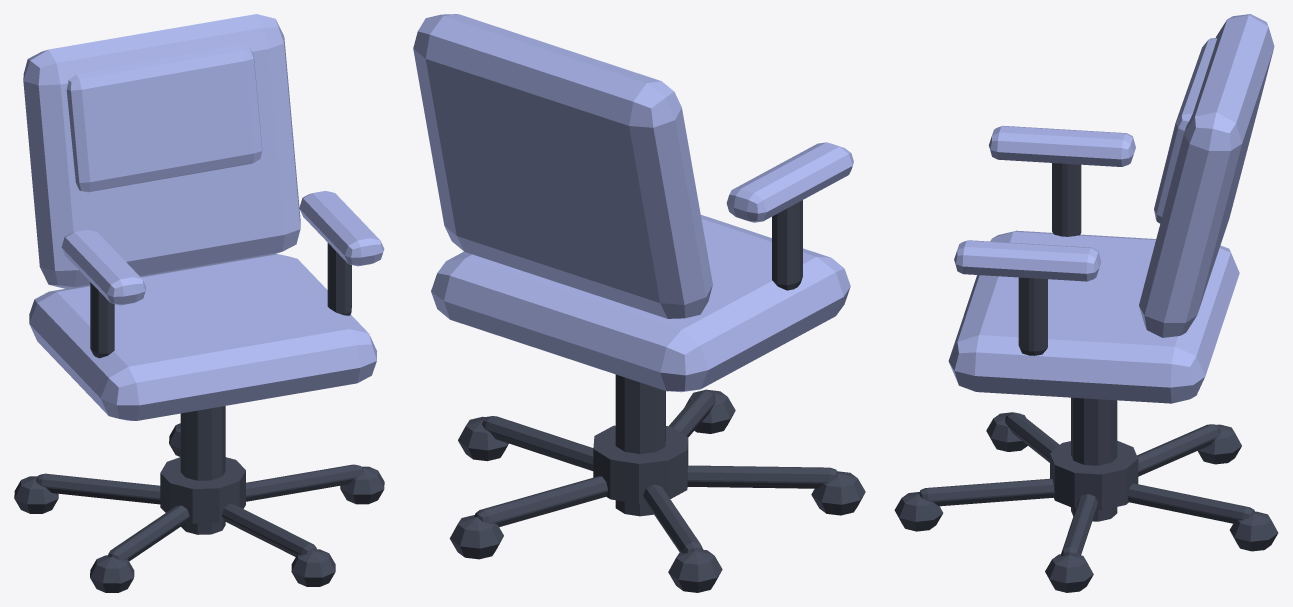
The model's file is cadeira.fbx.
3 views of the same model, side by side, from view 1: azimuth 30°, elevation 25°; view 2: azimuth 150°, elevation 25°; view 3: azimuth 270°, elevation 25° (orthographic). The views are drawn at different scales.
Parts seen in each view (by area): view 1: Chair_Front_Back, Chair_Front_Seat, Chair_Front_Back_Panel, Chair_Front, Chair_Front_Hub, Chair_Front_Post, Chair_Front_ArmRest_1, Chair_Front_ArmRest_-1, Chair_Front_ArmPost_-1; view 2: Chair_Front_Back, Chair_Front_Seat, Chair_Front, Chair_Front_ArmRest_-1, Chair_Front_Hub, Chair_Front_Post, Chair_Front_ArmPost_-1; view 3: Chair_Front_Seat, Chair_Front_Back, Chair_Front, Chair_Front_ArmRest_1, Chair_Front_ArmRest_-1, Chair_Front_Hub, Chair_Front_Post, Chair_Front_Back_Panel, Chair_Front_ArmPost_-1.
Boxes of the visible parts, x1,y1,x2,y2 form: Chair_Front_Back: [23, 14, 300, 289]; Chair_Front_Seat: [29, 254, 377, 420]; Chair_Front_Back_Panel: [66, 44, 262, 192]; Chair_Front: [14, 243, 384, 592]; Chair_Front_Hub: [160, 457, 245, 523]; Chair_Front_Post: [180, 406, 225, 534]; Chair_Front_ArmRest_1: [299, 191, 384, 266]; Chair_Front_ArmRest_-1: [61, 230, 146, 305]; Chair_Front_ArmPost_-1: [90, 282, 114, 358]; Chair_Front_Back: [413, 14, 712, 318]; Chair_Front_Seat: [431, 215, 850, 392]; Chair_Front: [449, 389, 865, 592]; Chair_Front_ArmRest_-1: [726, 142, 853, 222]; Chair_Front_Hub: [593, 425, 688, 503]; Chair_Front_Post: [615, 374, 665, 516]; Chair_Front_ArmPost_-1: [772, 200, 802, 290]; Chair_Front_Seat: [948, 230, 1239, 403]; Chair_Front_Back: [1139, 14, 1274, 337]; Chair_Front: [894, 277, 1278, 592]; Chair_Front_ArmRest_1: [954, 240, 1101, 281]; Chair_Front_ArmRest_-1: [988, 125, 1135, 166]; Chair_Front_Hub: [1050, 441, 1138, 510]; Chair_Front_Post: [1071, 397, 1117, 521]; Chair_Front_Back_Panel: [1154, 38, 1216, 223]; Chair_Front_ArmPost_-1: [1052, 163, 1081, 236].
Size of the model in its own units: 127 by 169 by 127.
